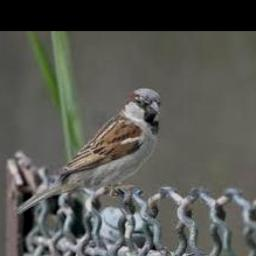Sparrow: (14, 87, 162, 218)
